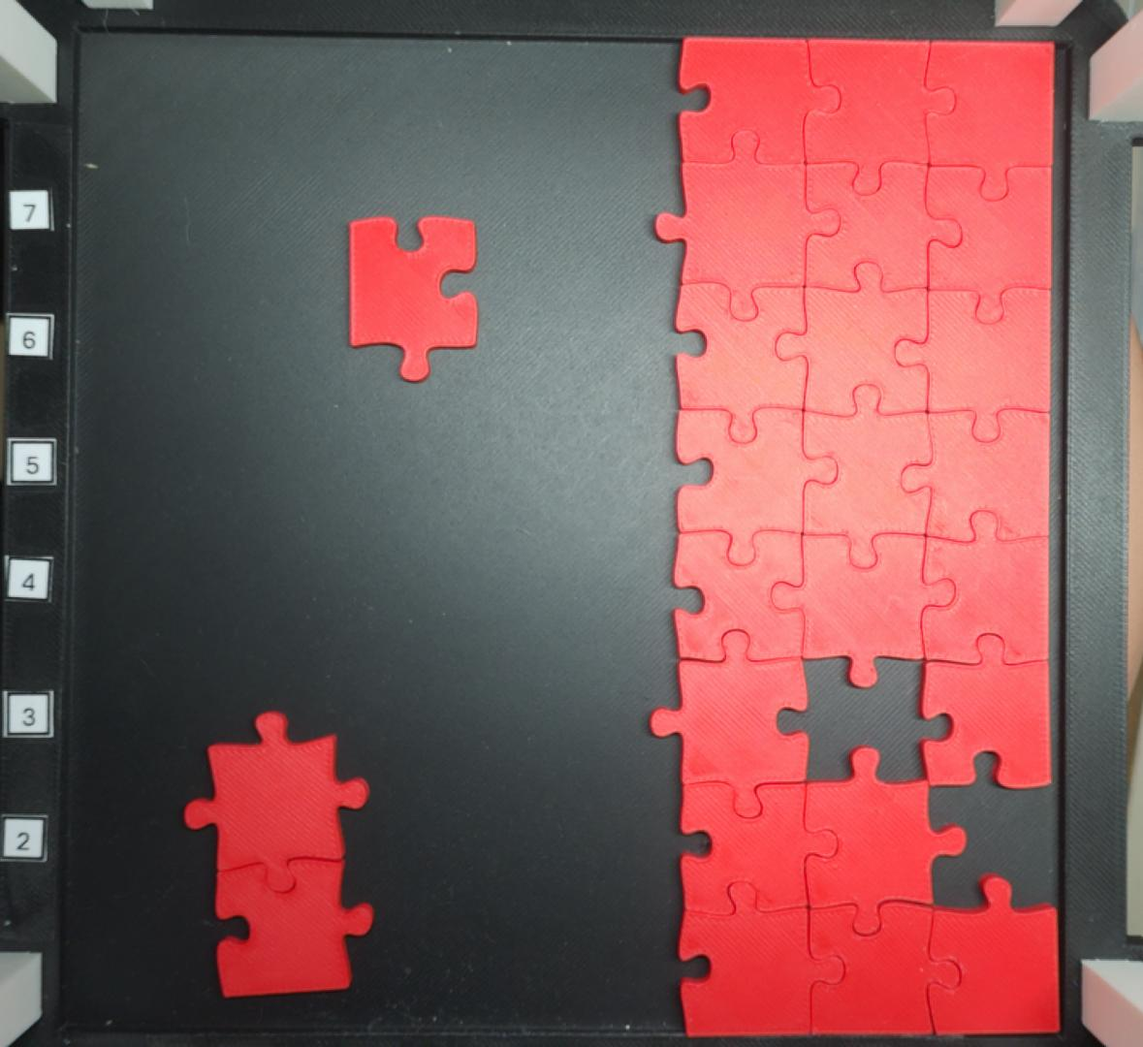p_1: (348, 217, 483, 382)
p_2: (185, 712, 369, 1000)
p_m: (651, 36, 1063, 1037)
